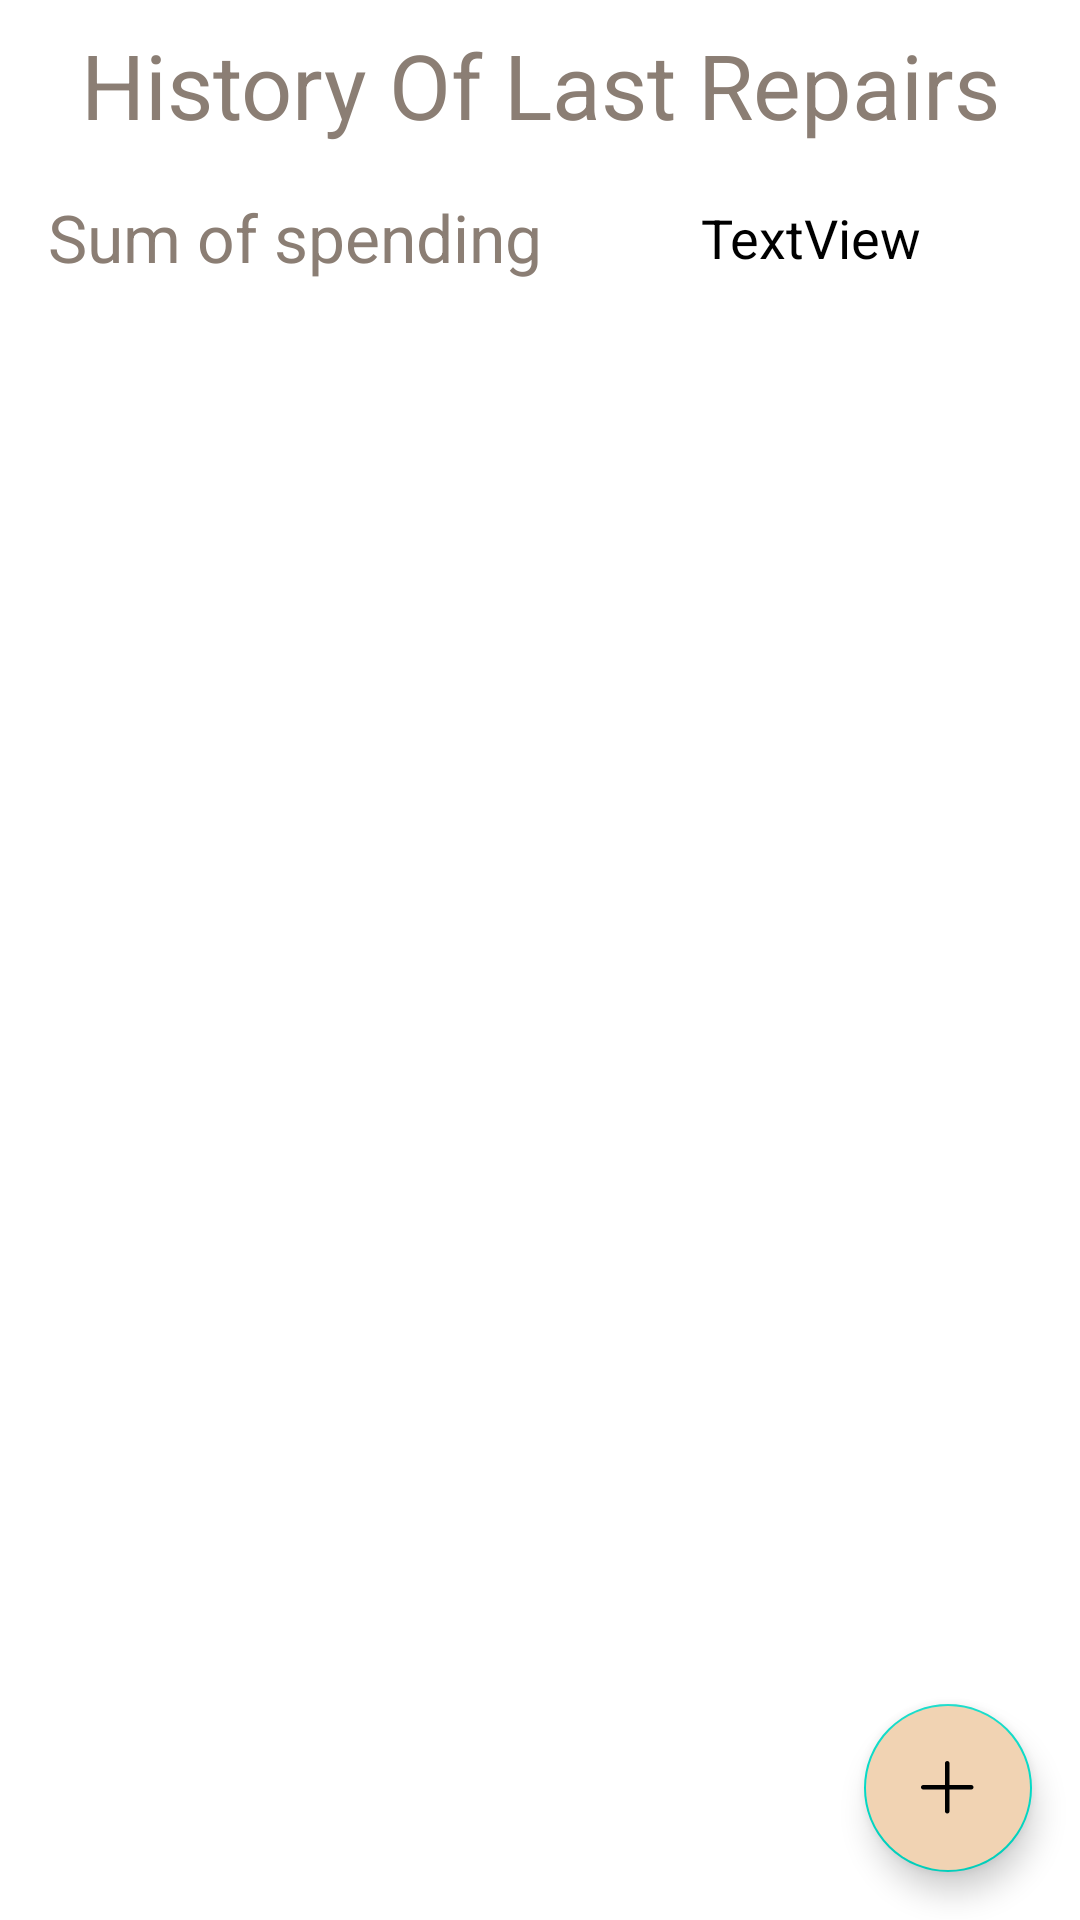

Where icons sit on this 1080 x 1920 app screen, as (x1, y1, x2, y2):
Add New Repair: (864, 1704, 1032, 1872)
